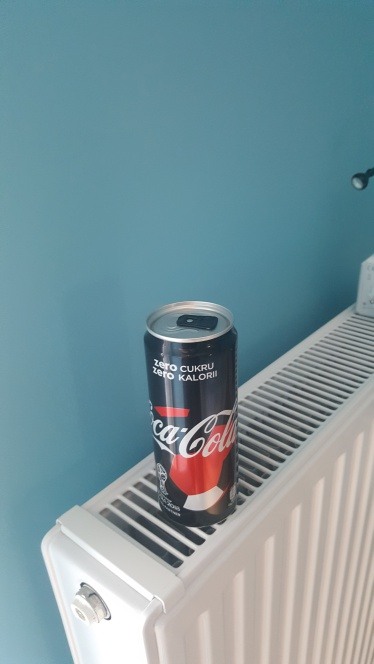colazero: (140, 289, 247, 529)
